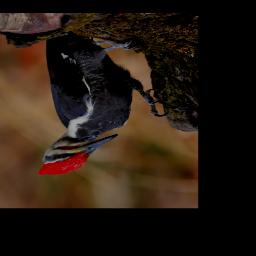Woodpecker: (38, 32, 170, 176)
